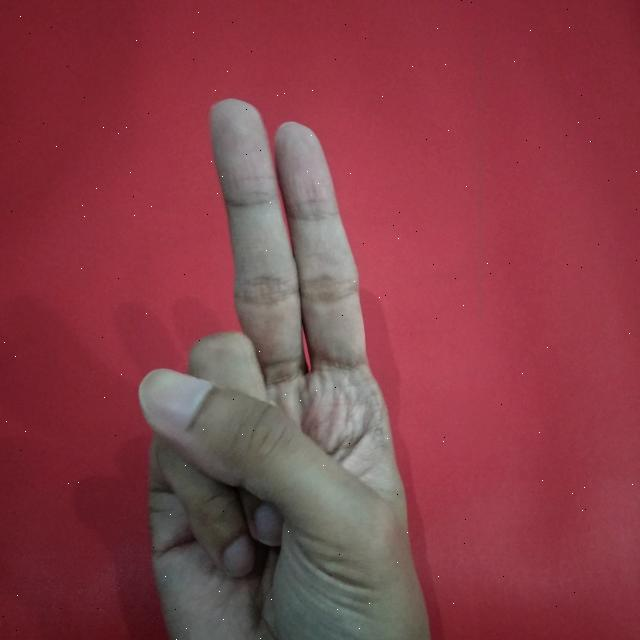U: (128, 88, 434, 640)
